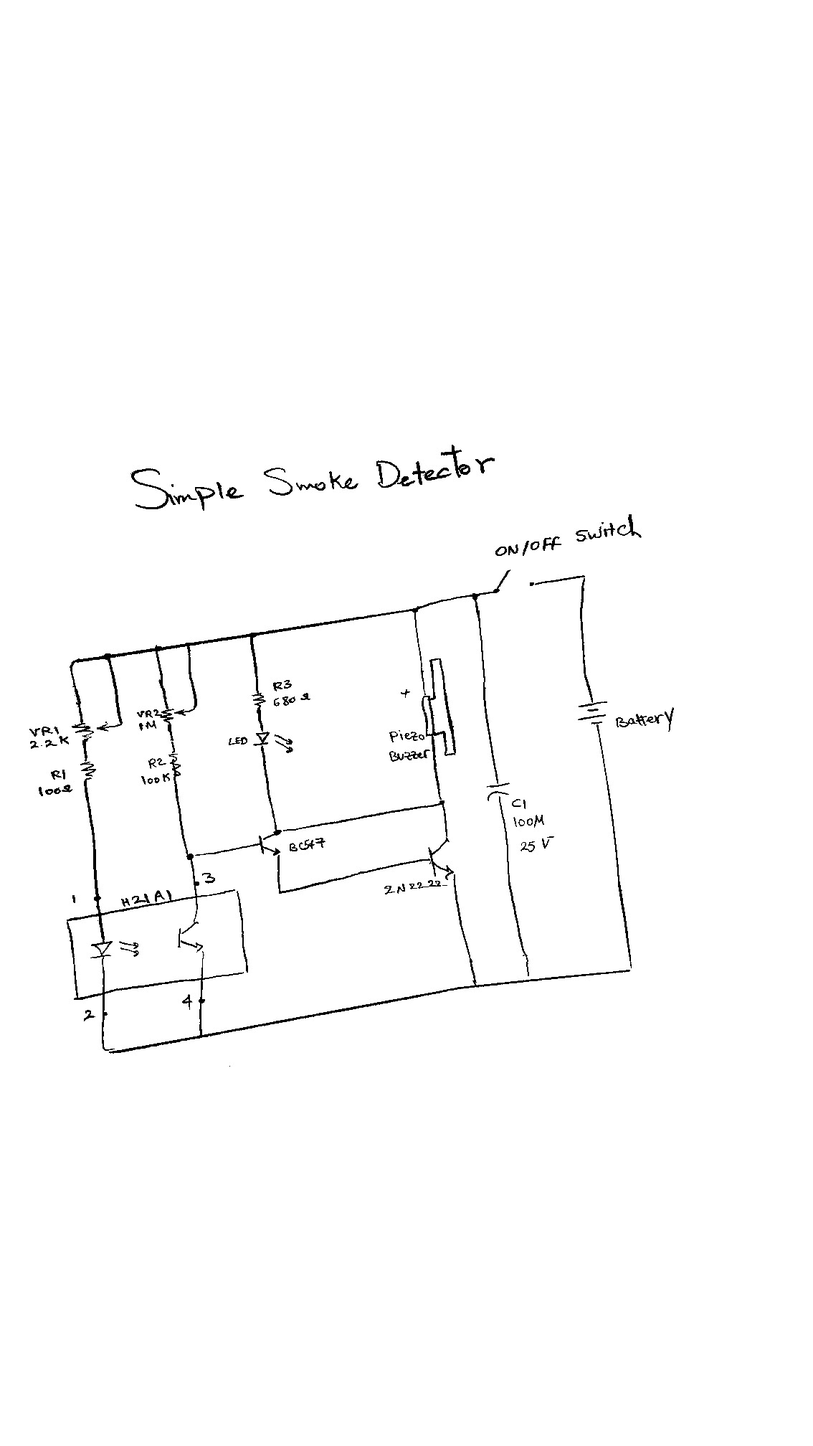capacitor.unpolarized: (485, 780, 513, 803)
diode.light_emitting: (87, 935, 141, 963), (252, 728, 295, 754)
integrated_circuit: (65, 885, 251, 1005)
junction: (100, 1044, 115, 1056), (68, 658, 80, 669), (185, 851, 197, 861), (437, 796, 447, 808), (153, 643, 164, 653), (471, 978, 481, 989), (525, 973, 534, 985), (410, 606, 421, 615), (470, 592, 481, 601), (247, 631, 258, 640), (102, 652, 113, 661), (190, 703, 199, 712), (197, 1031, 206, 1040), (580, 573, 589, 582), (627, 963, 635, 973), (277, 888, 285, 897), (184, 641, 193, 648), (118, 721, 125, 727)
optical: (118, 938, 141, 958)
optocoupler: (85, 918, 210, 964)
resistor: (78, 756, 97, 785), (167, 750, 182, 780), (250, 690, 267, 709)
resistor.adjustable: (72, 720, 110, 743), (159, 705, 188, 725)
speaker: (419, 656, 459, 757)
switch: (493, 567, 539, 595)
text: (129, 443, 498, 513), (493, 512, 642, 558), (614, 706, 678, 732), (383, 879, 443, 897), (120, 888, 173, 908), (518, 835, 556, 854), (288, 835, 326, 853), (29, 735, 71, 750), (272, 691, 311, 707), (387, 748, 431, 762), (388, 728, 425, 744), (512, 813, 546, 829), (37, 783, 73, 798), (140, 771, 172, 786), (29, 724, 60, 738), (272, 678, 293, 692), (136, 708, 162, 719), (147, 757, 168, 770), (227, 735, 249, 747), (138, 719, 158, 732), (201, 869, 217, 885), (510, 797, 528, 811), (49, 767, 67, 781), (181, 993, 195, 1011), (81, 1008, 96, 1023), (70, 891, 80, 907)
transistor.bjt: (425, 831, 457, 880), (257, 827, 287, 859)
transistor.photo: (117, 920, 207, 963)
voltage.battery: (575, 696, 611, 727)
